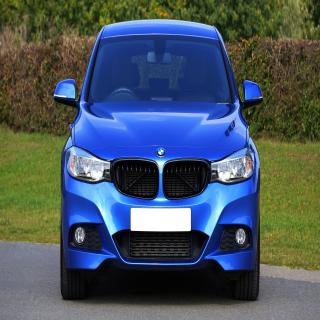Normal_vehicle: (53, 19, 265, 303)
